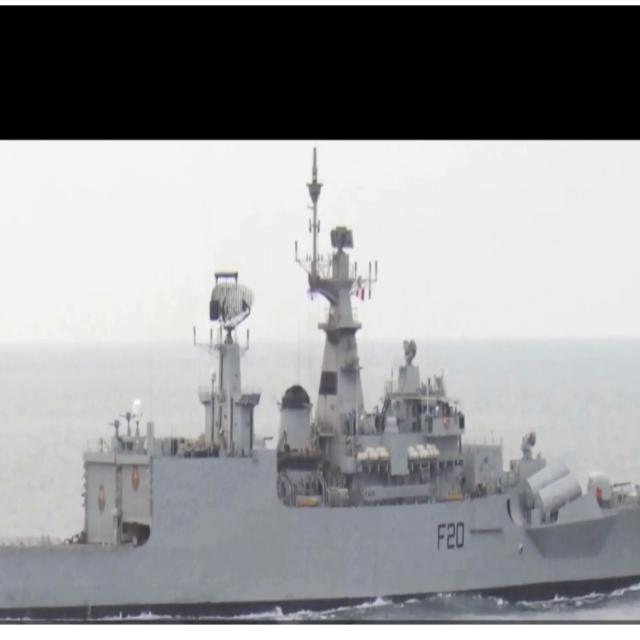OCR: (432, 518, 466, 560)
